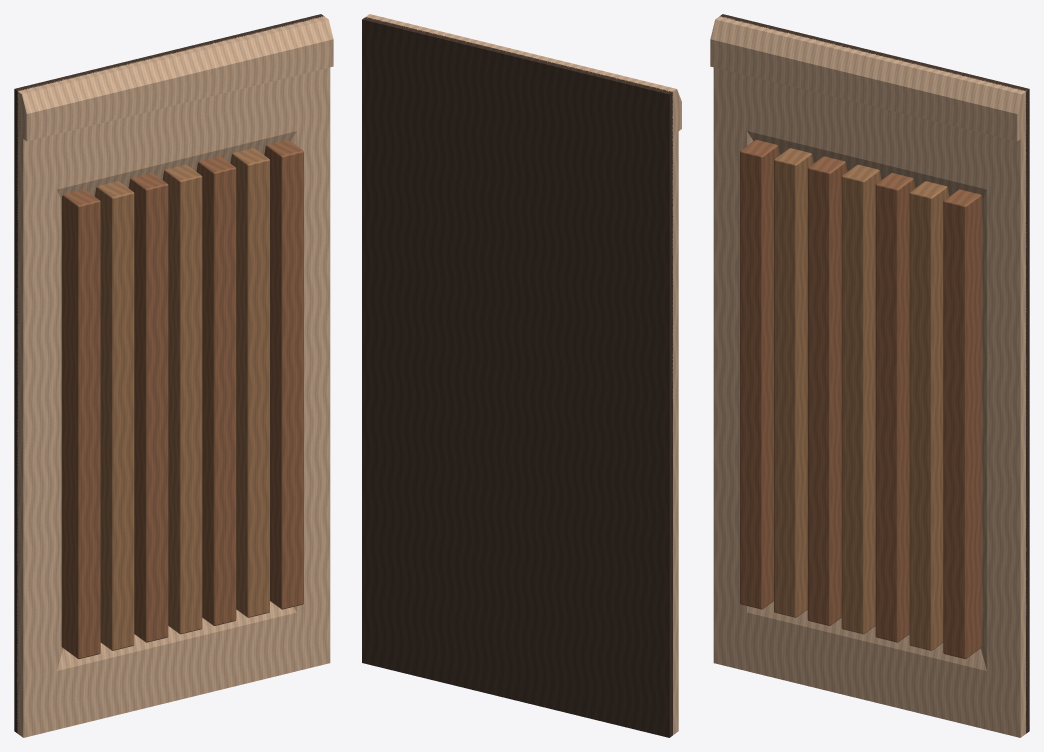
3 renders of one model, left to right at view 1: azimuth 30°, elevation 25°; view 2: azimuth 150°, elevation 25°; view 3: azimuth 330°, elevation 25°, orthographic.
Visible parts, largest first — view 1: kenney-moulded-backing, timber-batten-1, timber-batten-3, timber-batten-5, timber-batten-4, timber-batten-2, timber-batten-7, timber-batten-6, bonded-timber-back; view 2: bonded-timber-back, kenney-moulded-backing; view 3: kenney-moulded-backing, timber-batten-7, timber-batten-3, timber-batten-5, timber-batten-4, timber-batten-6, timber-batten-1, timber-batten-2, bonded-timber-back.
Boxes of the visible parts, box(x1,y1,x2,y2) form: kenney-moulded-backing: box(17, 16, 333, 737); timber-batten-1: box(61, 189, 100, 659); timber-batten-3: box(128, 173, 168, 642); timber-batten-5: box(196, 156, 236, 625); timber-batten-4: box(162, 164, 202, 634); timber-batten-2: box(95, 181, 134, 650); timber-batten-7: box(264, 139, 303, 609); timber-batten-6: box(230, 148, 269, 617); bonded-timber-back: box(14, 14, 324, 733); bonded-timber-back: box(362, 17, 672, 737); kenney-moulded-backing: box(365, 14, 681, 734); kenney-moulded-backing: box(710, 16, 1026, 737); timber-batten-7: box(943, 189, 982, 659); timber-batten-3: box(807, 156, 847, 625); timber-batten-5: box(875, 173, 915, 642); timber-batten-4: box(841, 164, 881, 634); timber-batten-6: box(909, 181, 948, 650); timber-batten-1: box(740, 139, 779, 609); timber-batten-2: box(774, 148, 813, 617); bonded-timber-back: box(720, 14, 1029, 733).
Size of the model in its own units: 0.6 by 1.2 by 0.08.
4 materials, 4 textured.
